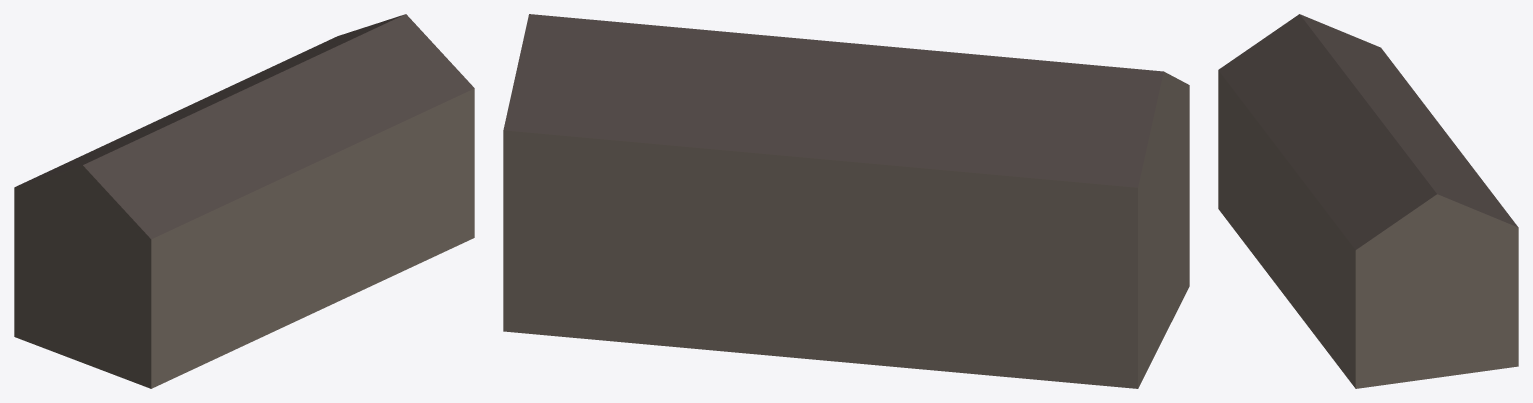
3 views of the same model, side by side, from view 1: azimuth 30°, elevation 25°; view 2: azimuth 150°, elevation 25°; view 3: azimuth 270°, elevation 25° (orthographic). The views are drawn at different scales.
Visible parts, largest first — view 1: HP-w859447878; view 2: HP-w859447878; view 3: HP-w859447878.
Boxes of the visible parts, left/top/right/bottom form: HP-w859447878: left=14, top=14, right=474, bottom=388; HP-w859447878: left=503, top=14, right=1189, bottom=388; HP-w859447878: left=1218, top=14, right=1518, bottom=388.
Size of the model in its own units: 28.18 by 11.91 by 17.66.
